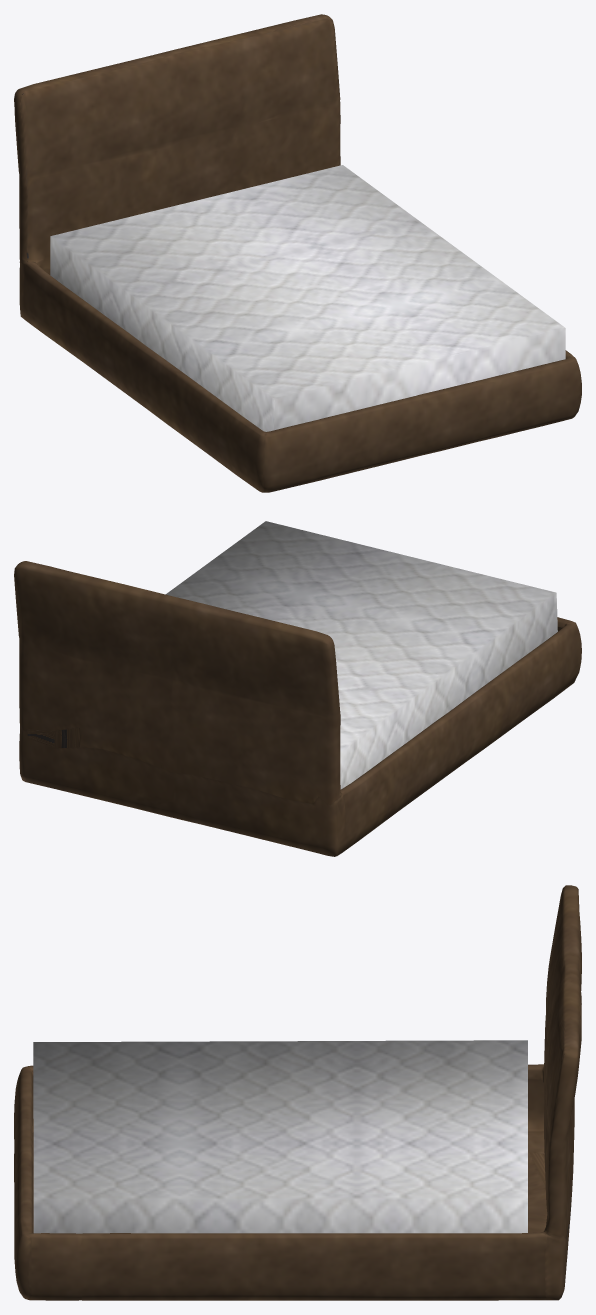
Rendered from pivot_bed.fbx.
3 renders of one model, top to bottom at view 1: azimuth 30°, elevation 25°; view 2: azimuth 150°, elevation 25°; view 3: azimuth 270°, elevation 25°, orthographic. The views are drawn at different scales.
Visible parts, largest first — view 1: double_bed_2; view 2: double_bed_2; view 3: double_bed_2.
Part boxes in pixels (box(x1,y1,x2,y2)): double_bed_2: box(14, 14, 581, 492); double_bed_2: box(14, 521, 581, 856); double_bed_2: box(14, 885, 581, 1300).
Bounding box in the file's own units: 1.81 × 1.19 × 2.45.
